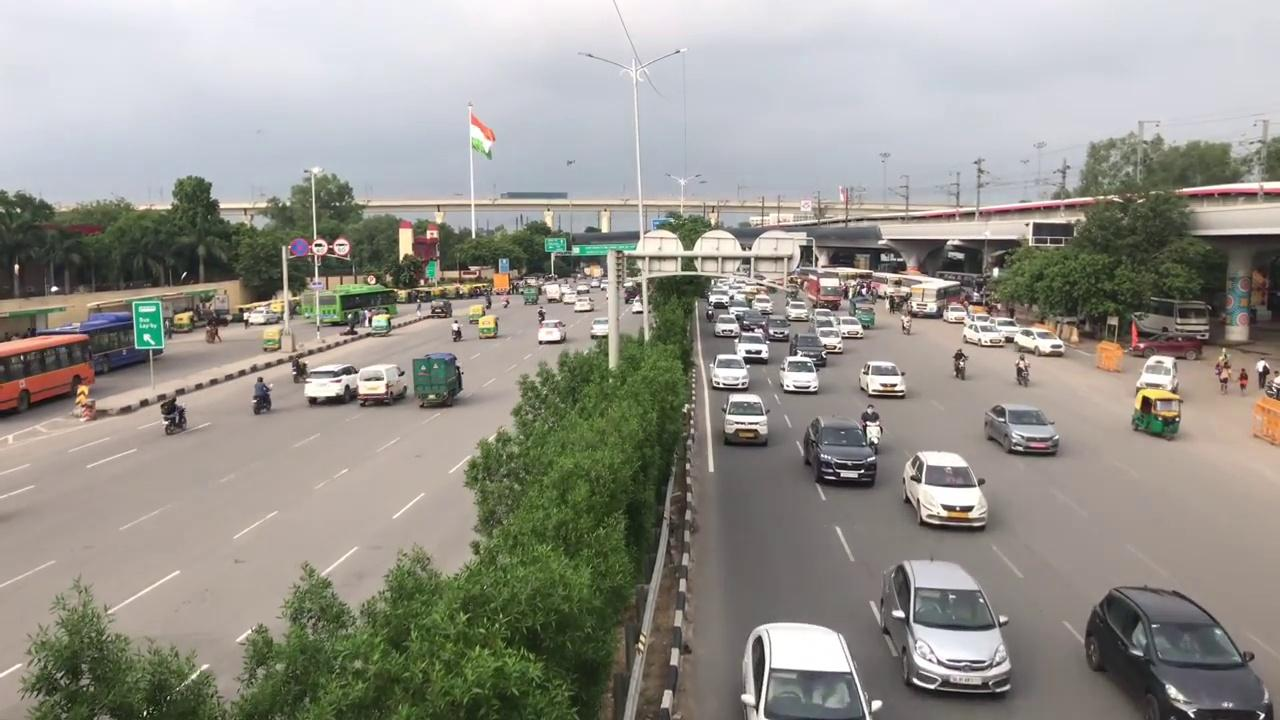Auto: (412, 354, 463, 408), (1131, 389, 1181, 440)
Bike: (861, 401, 883, 454), (1014, 354, 1032, 388), (952, 345, 968, 380)
Bus: (0, 329, 94, 411)
Car: (1084, 582, 1272, 720), (878, 558, 1012, 698), (737, 618, 876, 720), (899, 449, 992, 533), (801, 412, 875, 488), (984, 400, 1060, 456), (722, 392, 770, 448), (304, 360, 357, 409), (857, 360, 908, 400), (779, 355, 819, 395)
